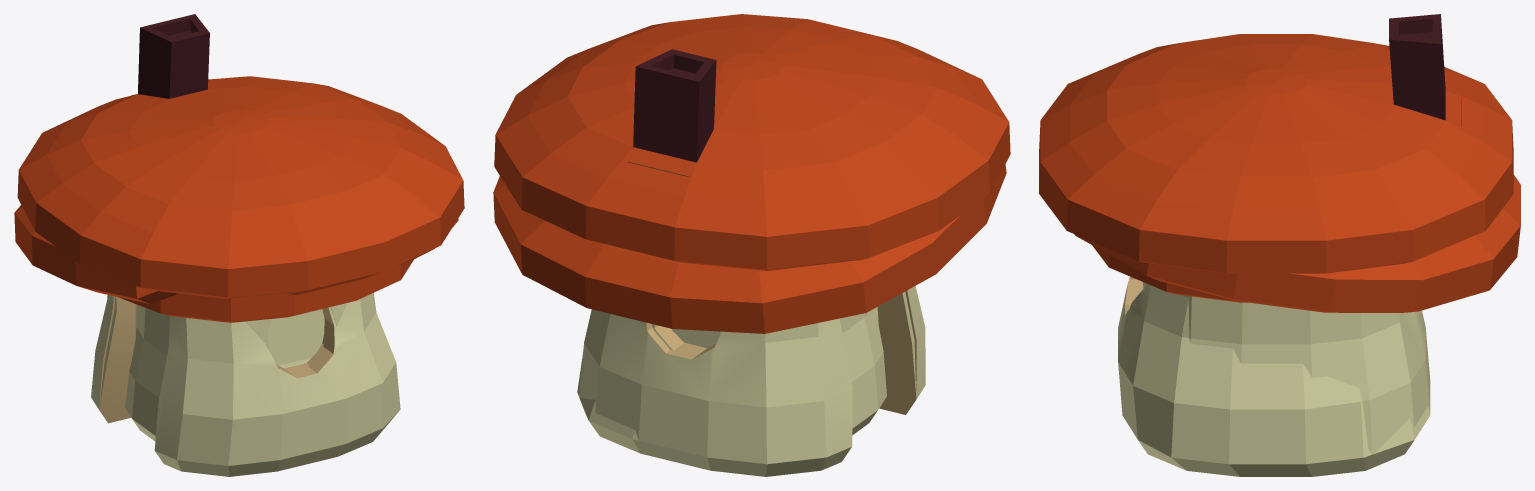
Rendered from RedMushroomModels.fbx.
The picture shows the model from 3 angles, left to right: view 1: azimuth 30°, elevation 25°; view 2: azimuth 150°, elevation 25°; view 3: azimuth 270°, elevation 25°; orthographic projection. The views are drawn at different scales.
Parts seen in each view (by area): view 1: RedMushroomFullGrown, RedMushroomDecaying, RedMushroomAdolescent; view 2: RedMushroomFullGrown, RedMushroomDecaying, RedMushroomAdolescent; view 3: RedMushroomFullGrown, RedMushroomDecaying, RedMushroomAdolescent.
Boxes of the visible parts, x1,y1,x2,y2 form: RedMushroomFullGrown: (17,14,464,476); RedMushroomDecaying: (14,94,458,471); RedMushroomAdolescent: (118,259,413,441); RedMushroomFullGrown: (494,14,1010,476); RedMushroomDecaying: (493,161,1006,469); RedMushroomAdolescent: (671,307,886,435); RedMushroomFullGrown: (1039,14,1513,454); RedMushroomDecaying: (1074,98,1520,476); RedMushroomAdolescent: (1092,245,1247,302).
Size of the model in its own units: 38.18 by 34.13 by 38.76.
1 material, 1 textured.
